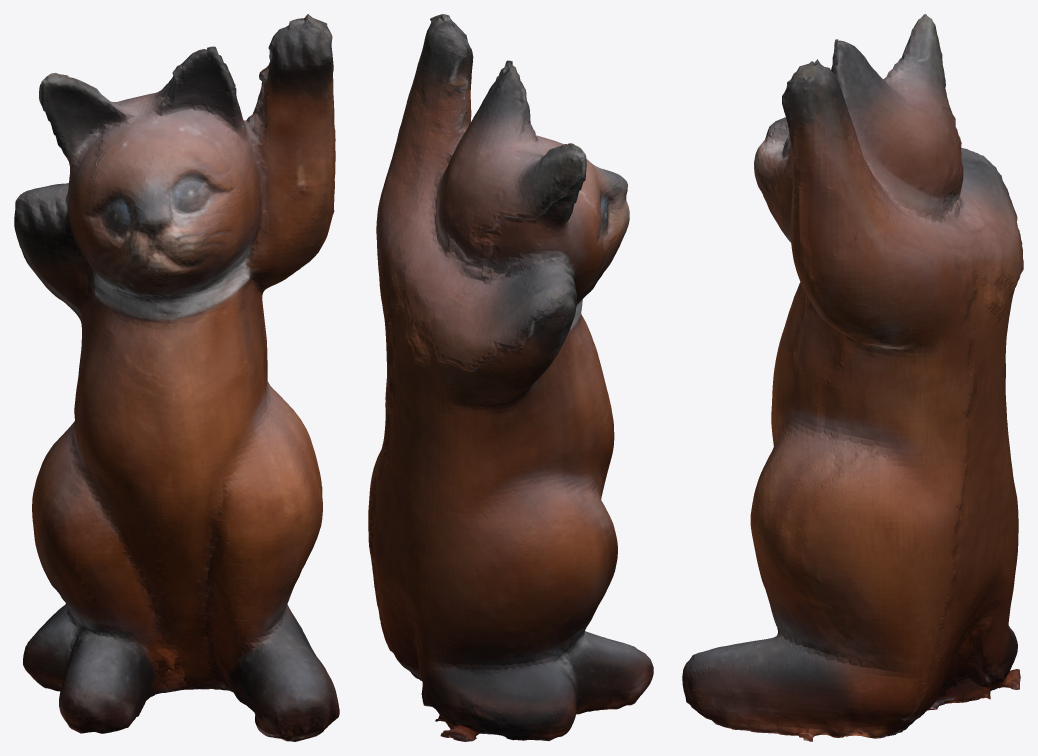
Rendered from cat.fbx.
3 renders of one model, left to right at view 1: azimuth 30°, elevation 25°; view 2: azimuth 150°, elevation 25°; view 3: azimuth 270°, elevation 25°, orthographic. The views are drawn at different scales.
Parts seen in each view (by area): view 1: cat_RCFINAL; view 2: cat_RCFINAL; view 3: cat_RCFINAL.
Boxes of the visible parts, <box> form: cat_RCFINAL: <box>14,14,339,741</box>; cat_RCFINAL: <box>368,14,653,741</box>; cat_RCFINAL: <box>682,14,1023,741</box>.
Bounding box in the file's own units: 75.5 × 179 × 81.41.
